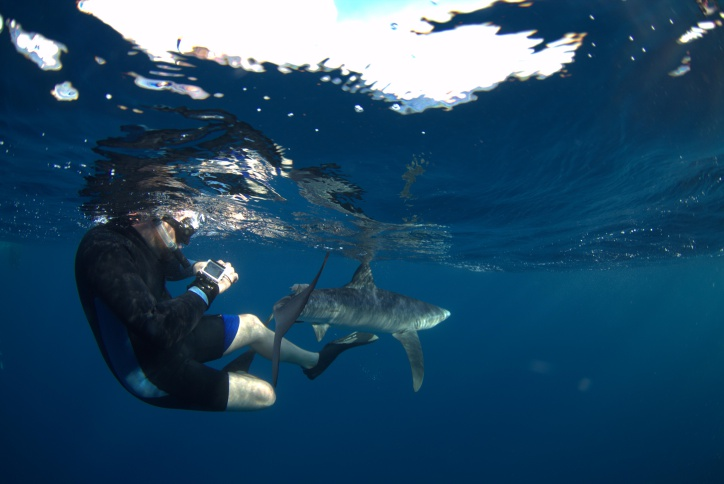Azul: (250, 236, 481, 402)
